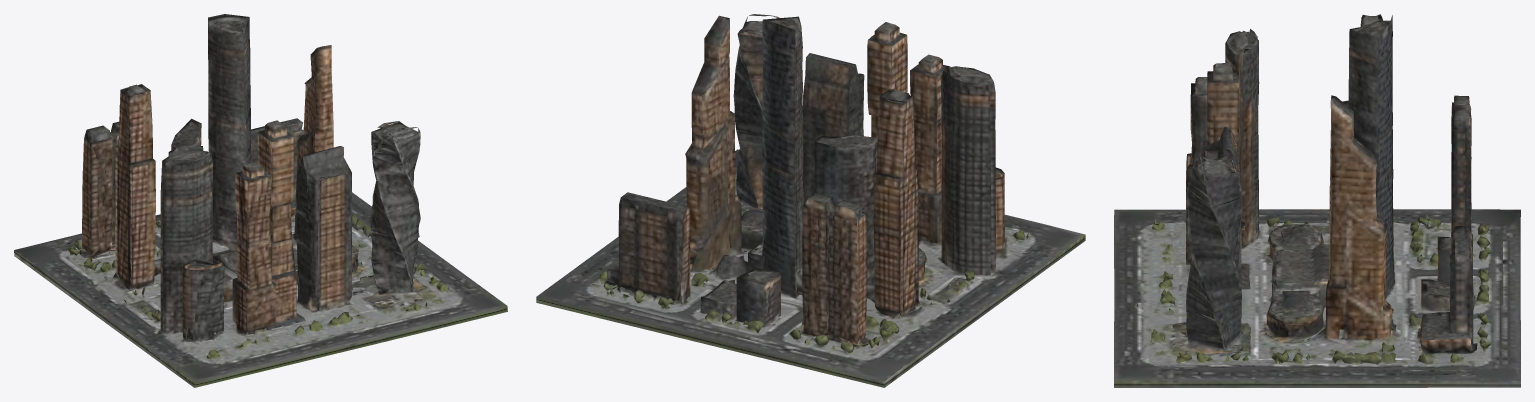
Rendered from moscow_city_gold_xfar.glb.
3 views of the same model, side by side, from view 1: azimuth 30°, elevation 25°; view 2: azimuth 150°, elevation 25°; view 3: azimuth 270°, elevation 25° (orthographic). The views are drawn at different scales.
Parts seen in each view (by area): view 1: moscow_city_gold; view 2: moscow_city_gold; view 3: moscow_city_gold.
Part boxes in pixels (box(x1,y1,x2,y2)): moscow_city_gold: box(14, 14, 507, 387); moscow_city_gold: box(536, 14, 1085, 387); moscow_city_gold: box(1114, 14, 1520, 387).
Size of the model in its own units: 1.9 by 1.43 by 1.9.
Materials: 1 (1 with a texture image).
